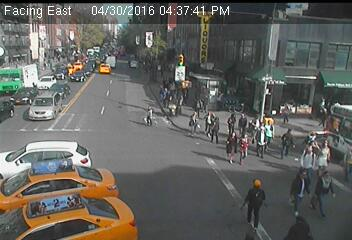neg: (103, 175, 143, 229), (170, 178, 208, 228), (13, 150, 39, 184), (249, 73, 271, 103), (225, 36, 246, 64), (61, 140, 81, 167), (98, 56, 118, 83), (51, 80, 71, 107), (49, 190, 69, 216), (324, 44, 343, 69), (30, 46, 49, 71), (278, 39, 296, 64), (37, 98, 55, 122), (305, 40, 323, 63), (198, 77, 216, 100), (59, 27, 76, 49), (15, 44, 31, 66), (121, 56, 136, 77), (134, 29, 149, 50), (189, 39, 204, 59), (169, 54, 184, 74), (31, 24, 46, 44), (100, 86, 115, 106), (10, 66, 24, 85), (89, 101, 102, 119), (83, 38, 96, 55), (8, 29, 20, 46)
pos: (237, 179, 277, 232), (309, 170, 346, 220), (284, 167, 321, 217), (311, 139, 342, 181), (248, 124, 276, 161), (277, 127, 302, 160), (220, 130, 244, 162), (206, 115, 227, 143), (221, 110, 242, 137), (185, 112, 204, 137), (278, 102, 296, 125), (316, 105, 333, 129), (141, 105, 158, 127), (172, 93, 188, 115)
